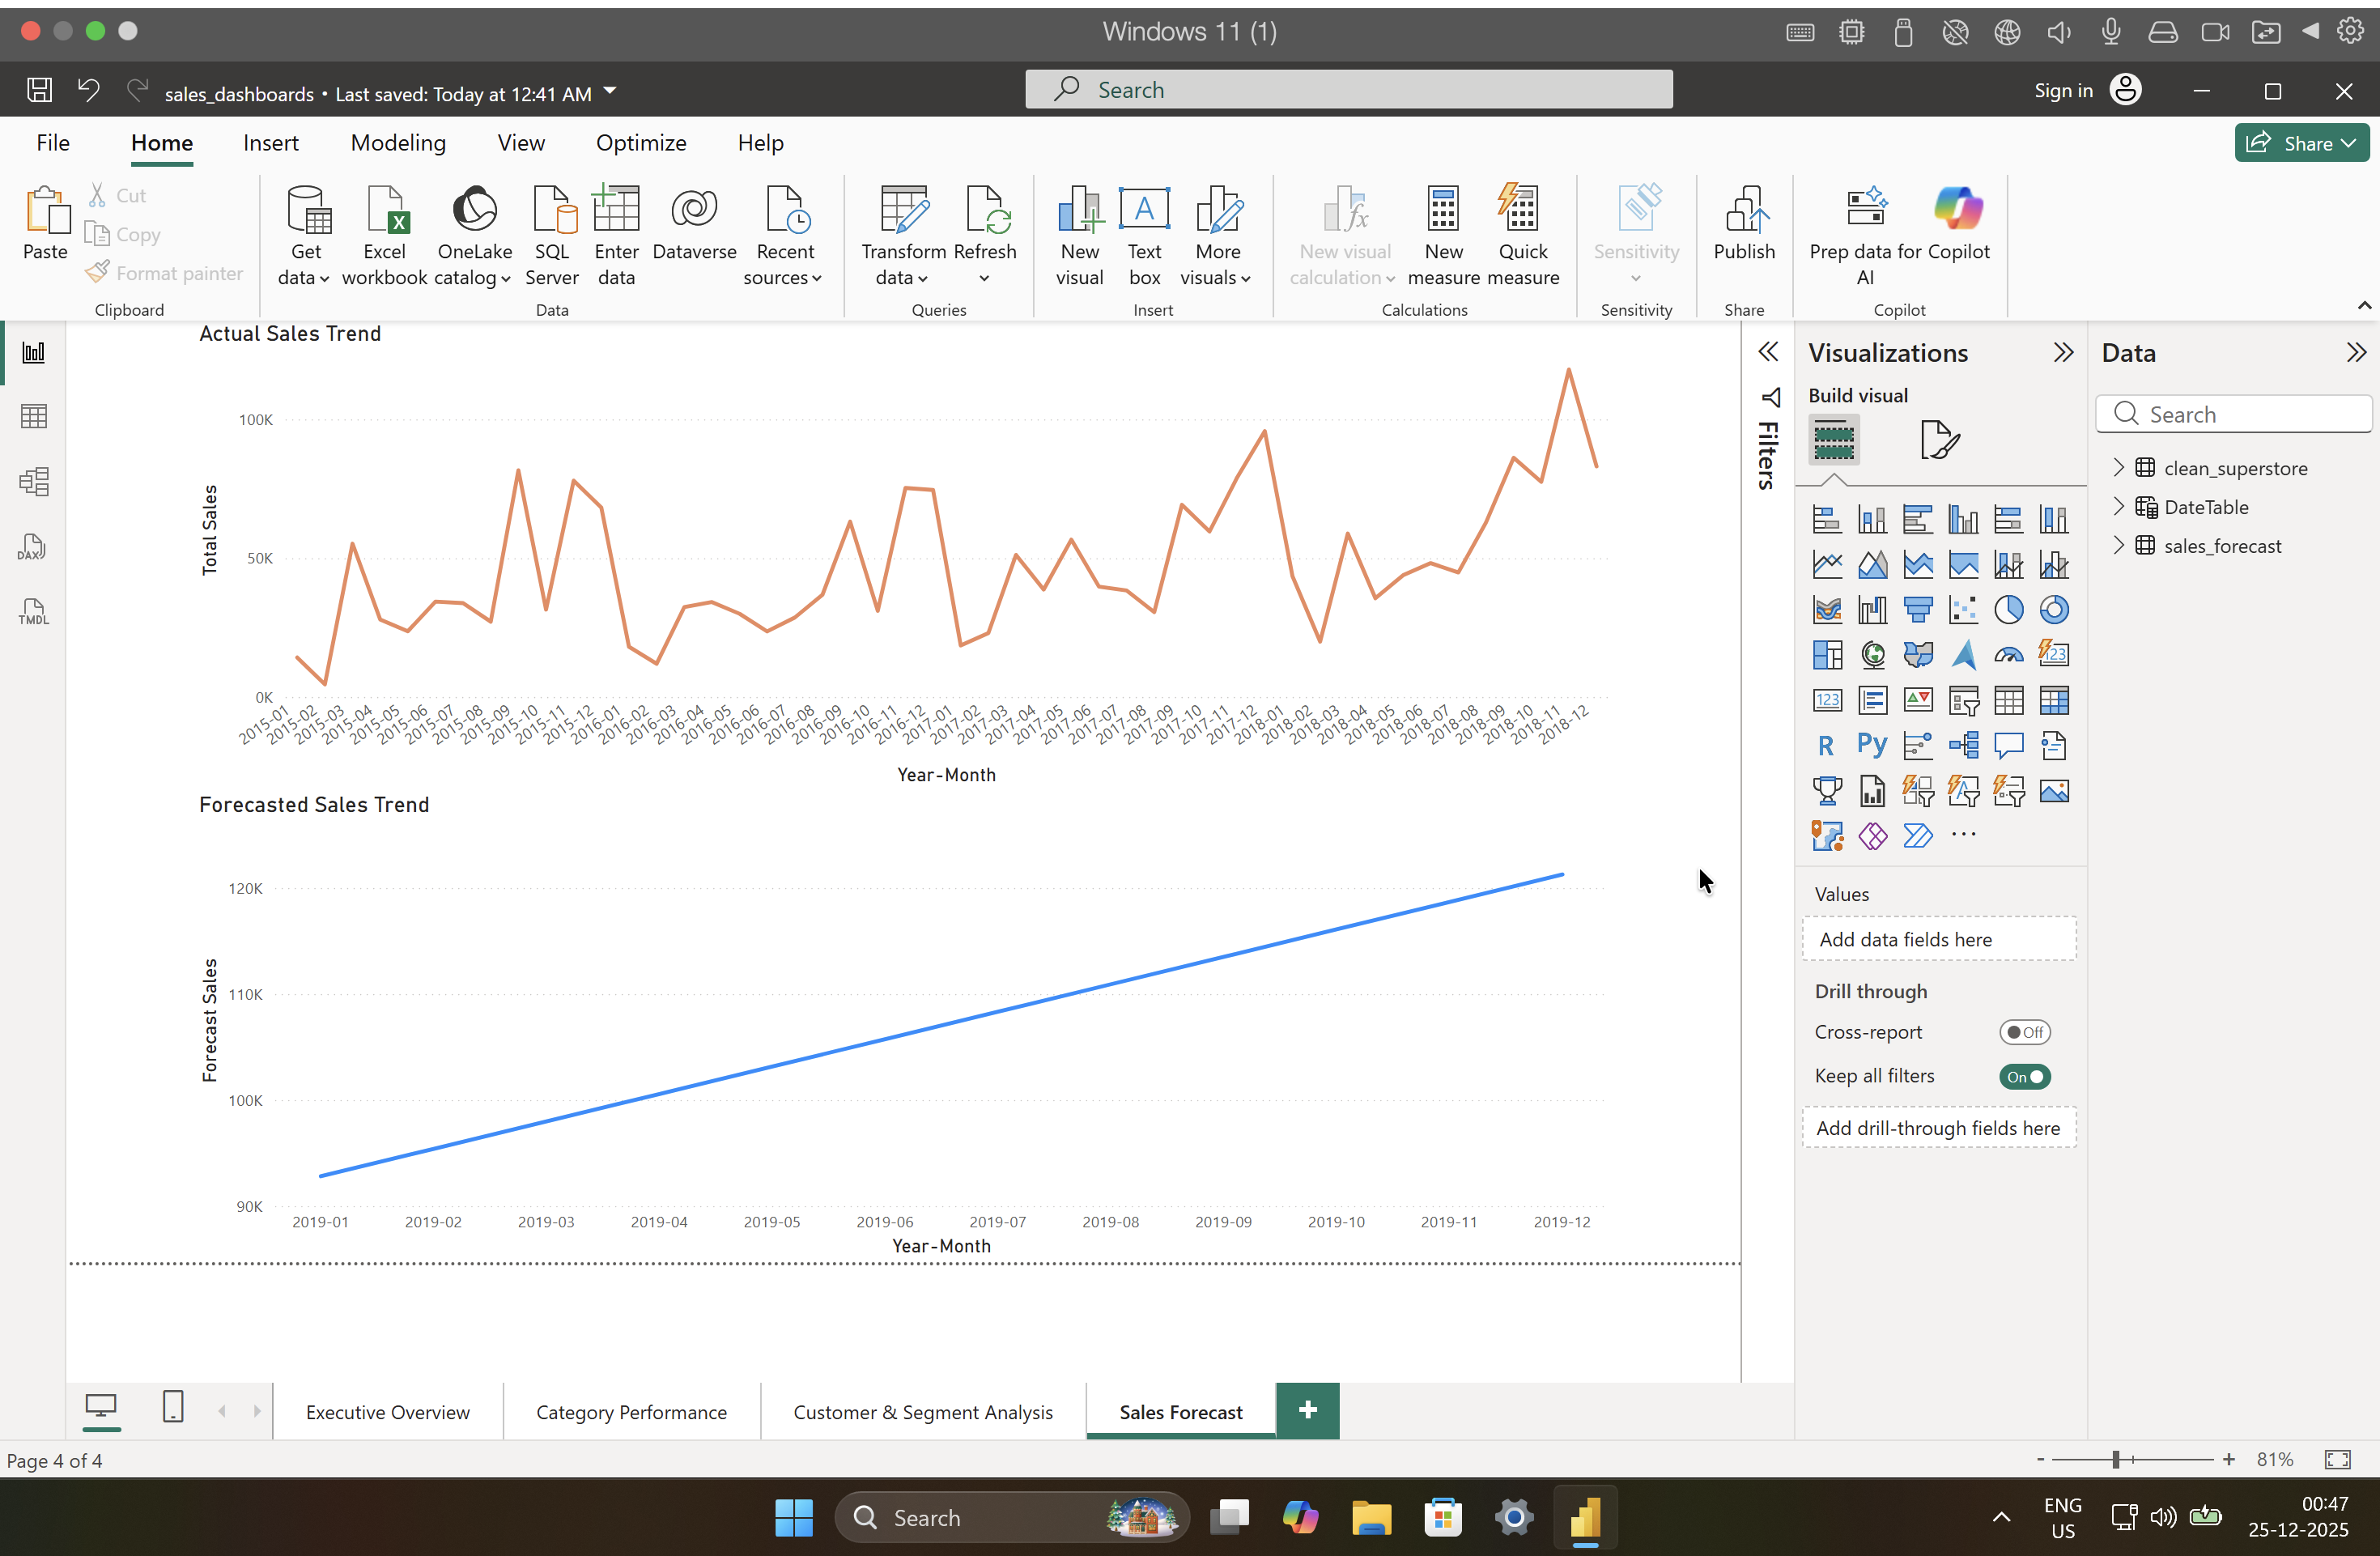

This screenshot's page, from the dashboard's own definition file:
{"tool":"powerbi","page":{"name":"Sales Forecast","canvas":[1280,720],"ordinal":3},"visuals":[{"type":"lineChart","title":"Actual Sales Trend","fields":{"Category":["DateTable.Year-Month"],"Y":["clean_superstore.Total Sales"]},"box":[96.6,0,1086.9,360.2],"z":0},{"type":"lineChart","title":"Forecasted Sales Trend","fields":{"Category":["DateTable.Year-Month"],"Y":["sales_forecast.Forecast Sales"]},"box":[96.6,360.2,1086.9,360.2],"z":1}]}

Visuals, with their boxes on the page's 1280x720 design canvas (x1, y1, x2, y2). These are canvas units, not pixel positions in the 2380x1556 screenshot, which may show the page scaled, cropped or inside an application window:
"Actual Sales Trend" lineChart: crop(97, 0, 1184, 360)
"Forecasted Sales Trend" lineChart: crop(97, 360, 1184, 720)
